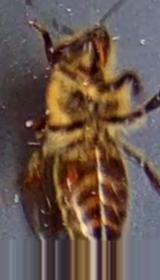varroa_mite: (56, 156, 90, 192)
